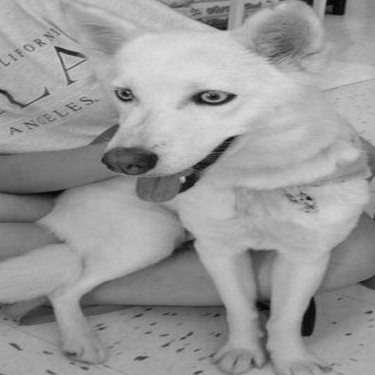dog: (5, 2, 370, 369)
